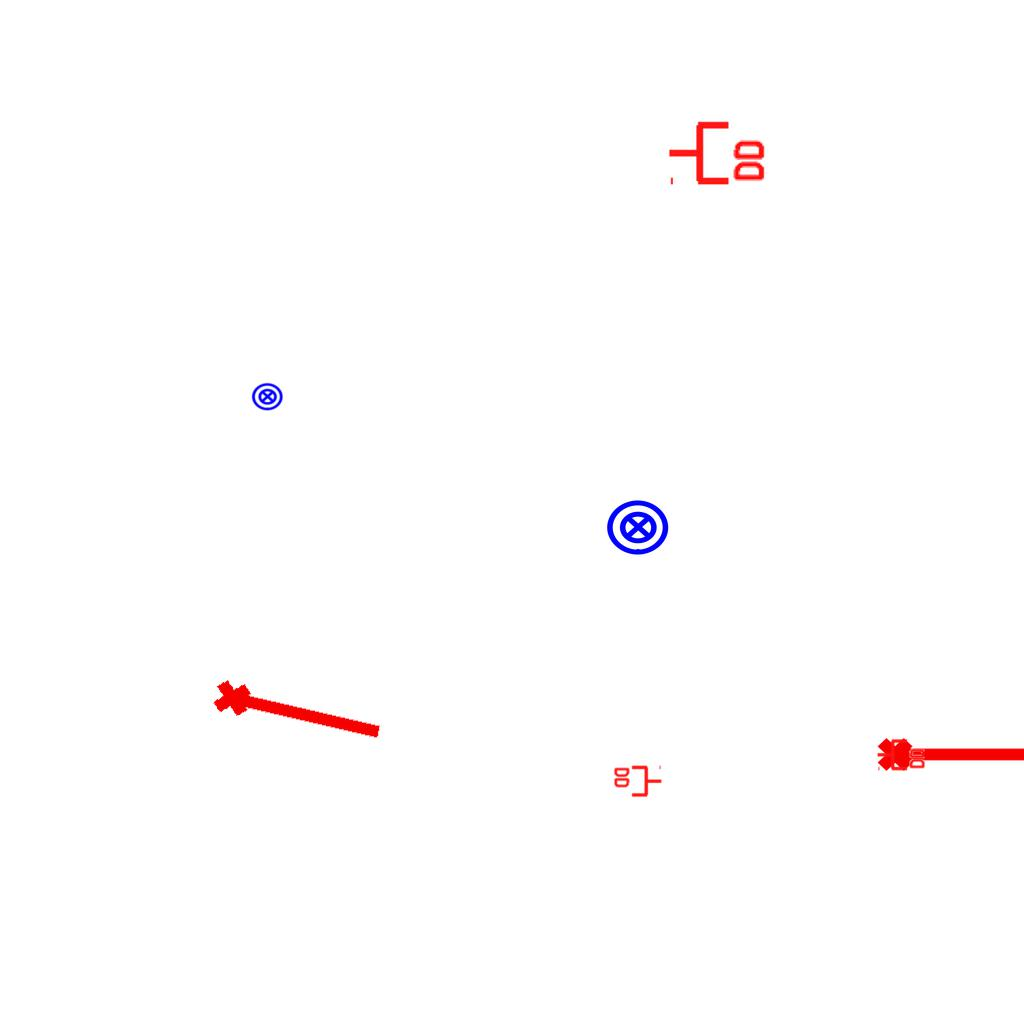ASR_Ansaugoeffnung: (208, 668, 390, 754), (875, 729, 1024, 775)
Datenanschluss_zweifach: (666, 117, 769, 186), (612, 765, 663, 799), (876, 737, 927, 771)
Taster_beleuchtet: (605, 494, 671, 560), (251, 380, 284, 413)
